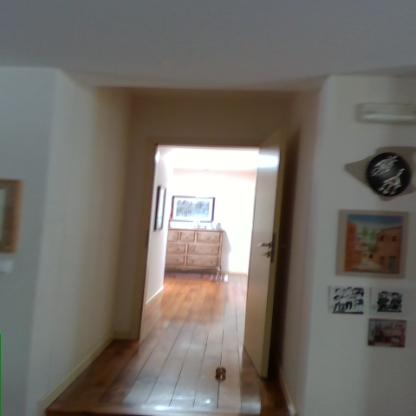open: (112, 121, 297, 410)
